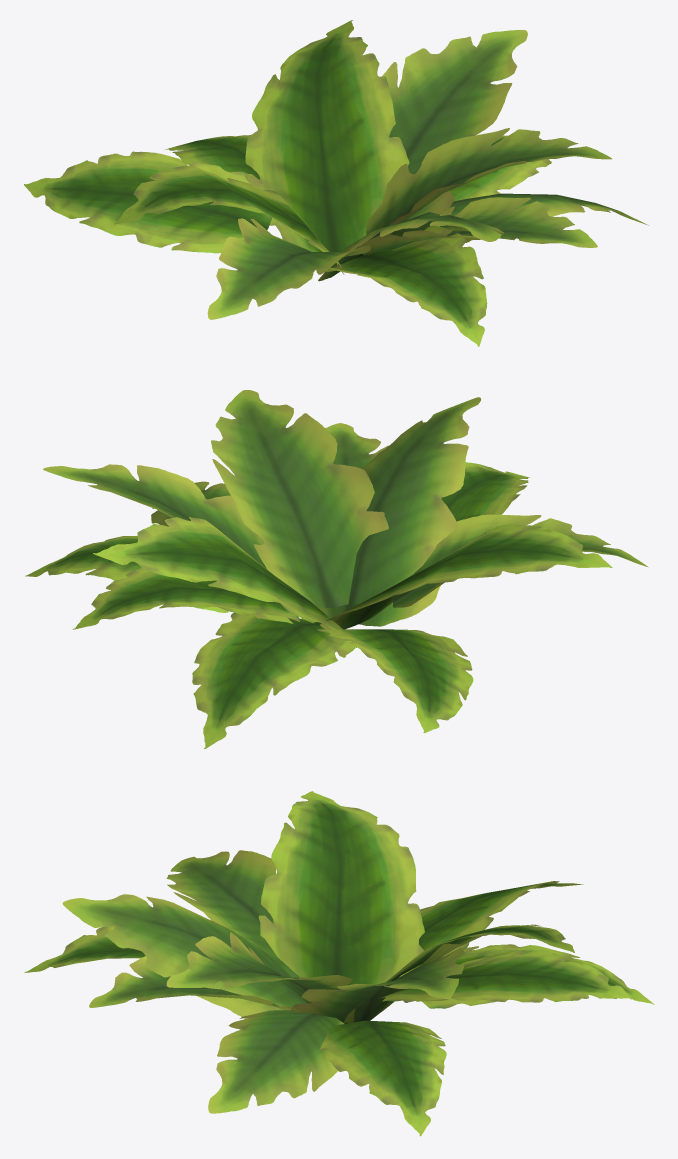
File: SM_LargeFern.fbx
3 renders of one model, top to bottom at view 1: azimuth 30°, elevation 25°; view 2: azimuth 150°, elevation 25°; view 3: azimuth 270°, elevation 25°, orthographic. The views are drawn at different scales.
Parts seen in each view (by area): view 1: SM_LargeFern; view 2: SM_LargeFern; view 3: SM_LargeFern.
Boxes of the visible parts, x1=… form: SM_LargeFern: x1=24, y1=20, x2=648, y2=346; SM_LargeFern: x1=25, y1=390, x2=648, y2=748; SM_LargeFern: x1=24, y1=791, x2=654, y2=1136.
Size of the model in its own units: 195 by 56.01 by 207.
Materials: 1 (1 with a texture image).
